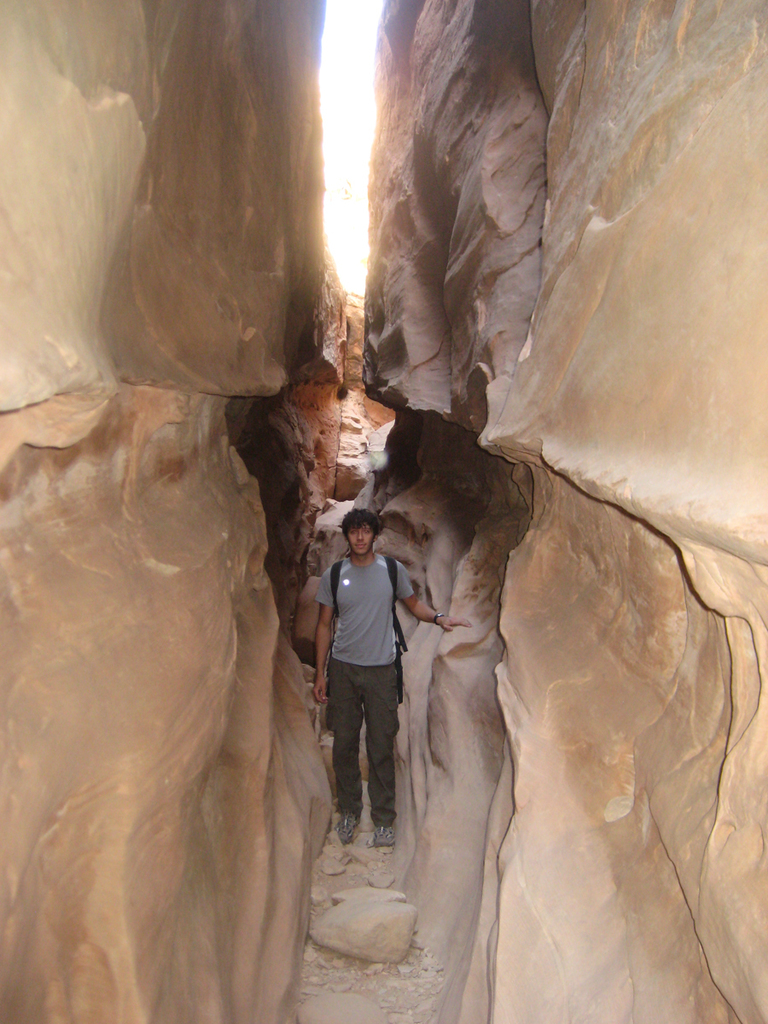Person: (310, 507, 471, 847)
